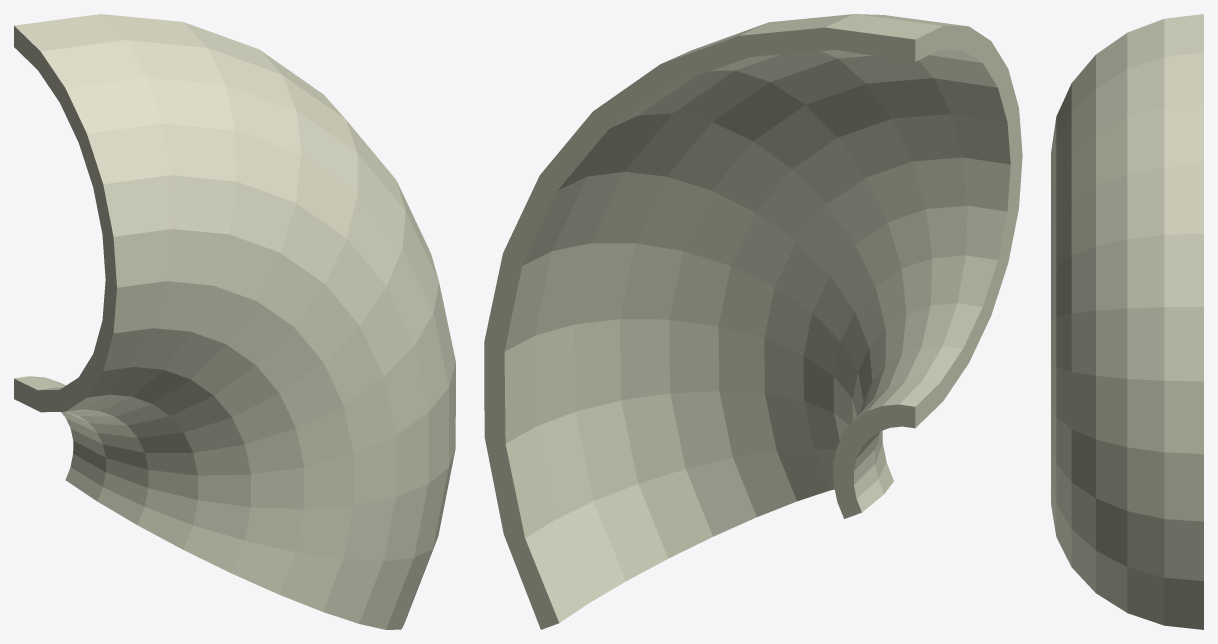
File: section_085.obj
3 renders of one model, left to right at view 1: azimuth 30°, elevation 25°; view 2: azimuth 150°, elevation 25°; view 3: azimuth 270°, elevation 25°, orthographic. The views are drawn at different scales.
Bounding box in the file's own units: 20.89 × 31.57 × 9.
